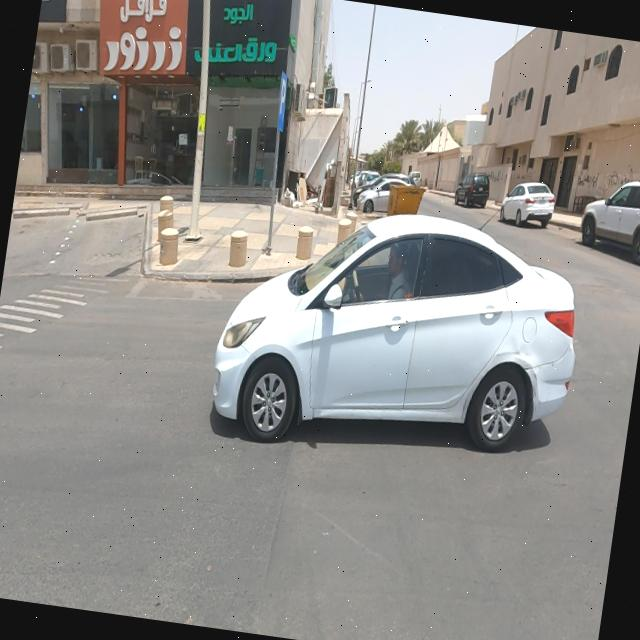Graffiti: (603, 165, 639, 197), (577, 170, 602, 192), (513, 170, 529, 186), (487, 169, 504, 184)
